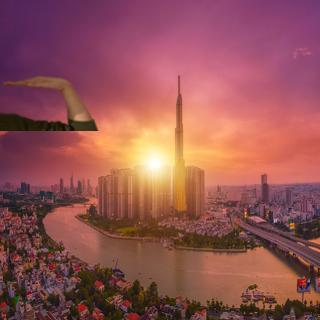WAIT: (4, 70, 73, 95)
